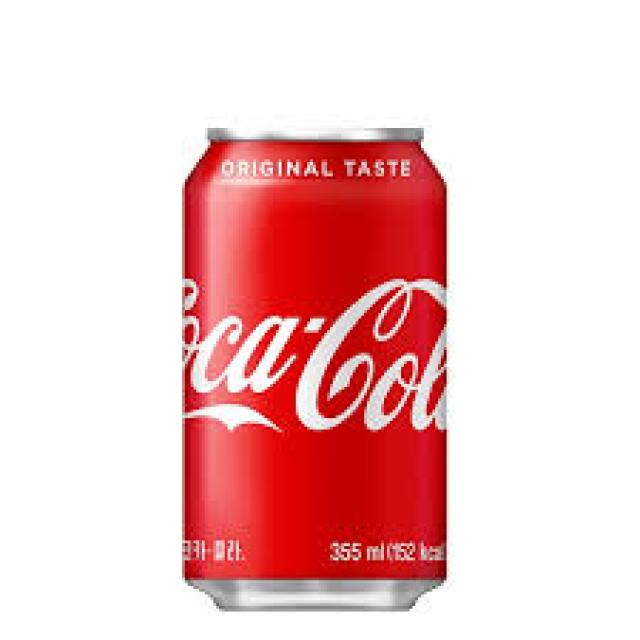Coca-Cola: (157, 101, 483, 624)
